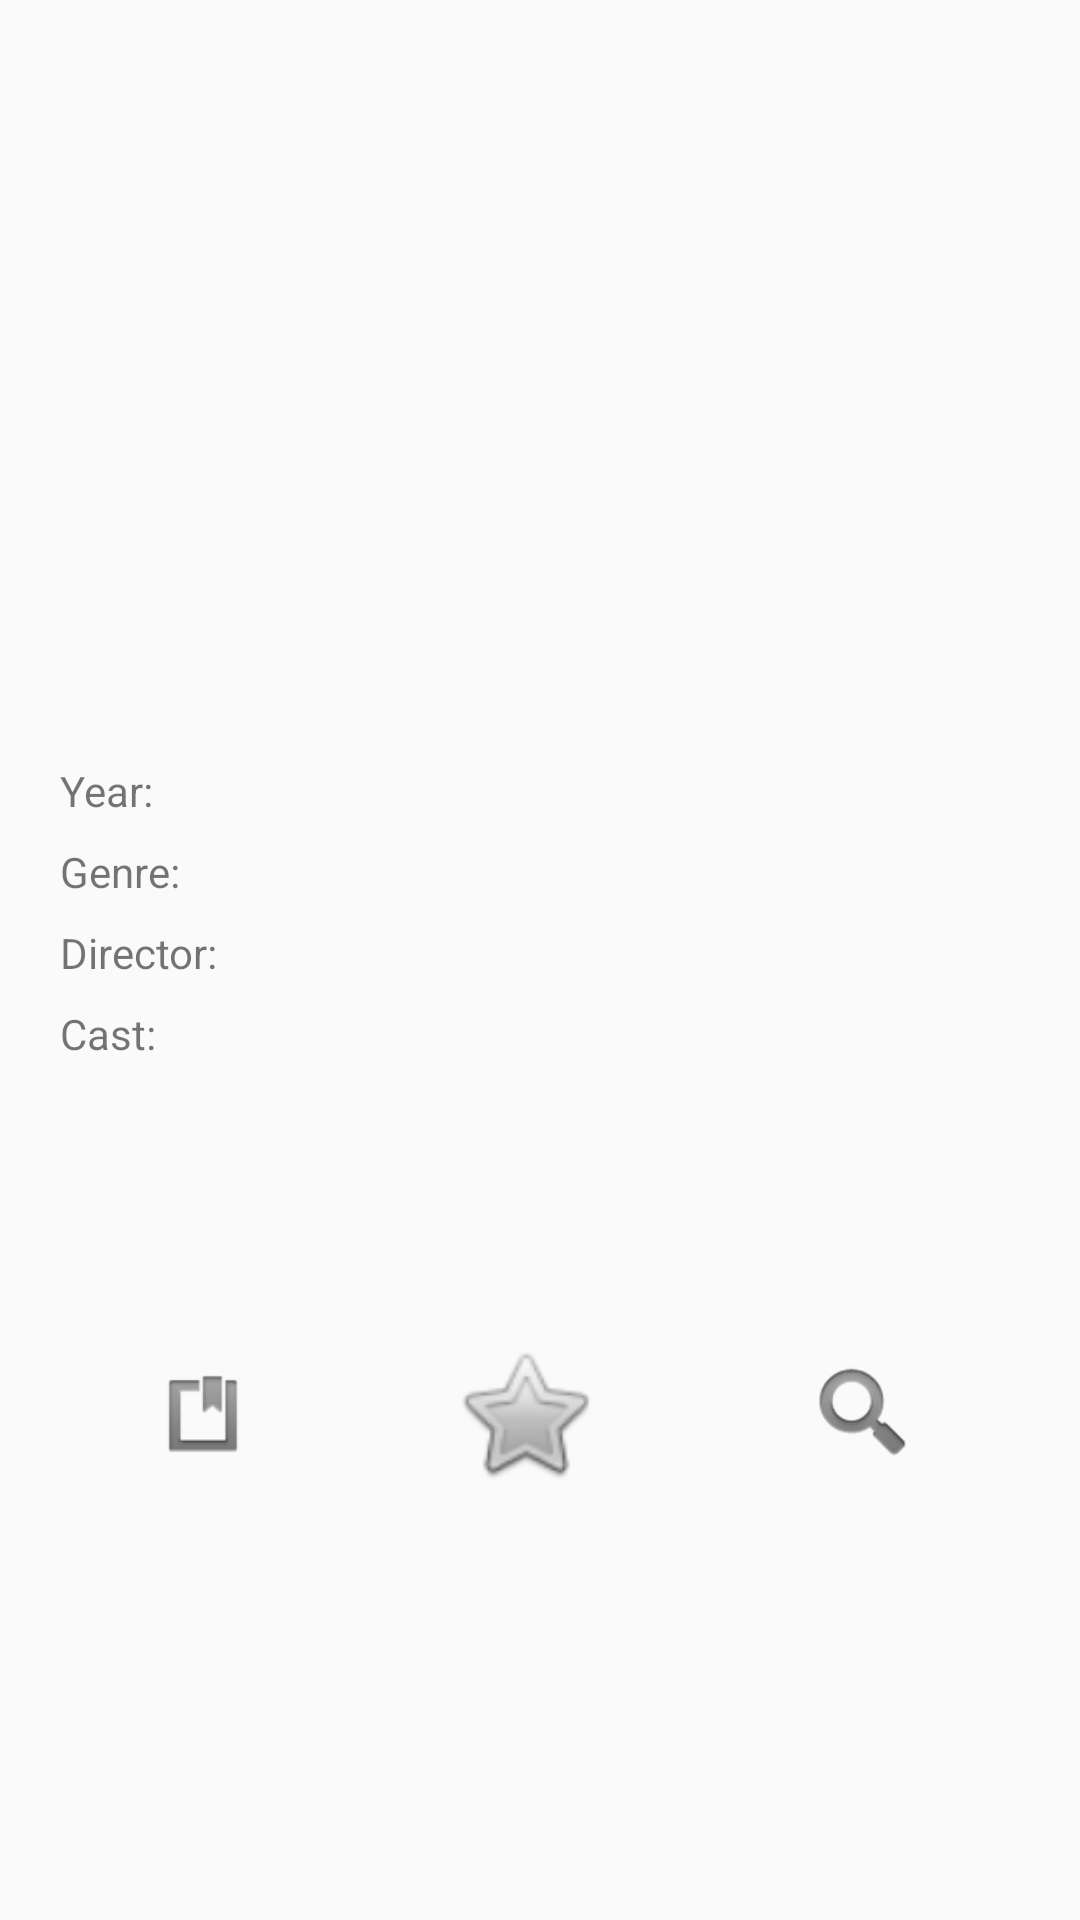

Screen size 1080x1920. Icon name, then its box in pixels as (x1, y1, x2, y2):
search category: (819, 1369, 906, 1455)
star off: (464, 1354, 589, 1476)
